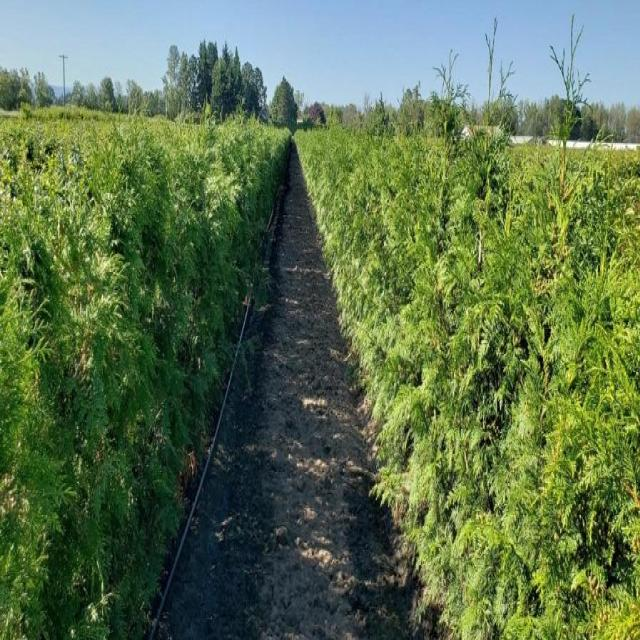row: (135, 140, 448, 640)
